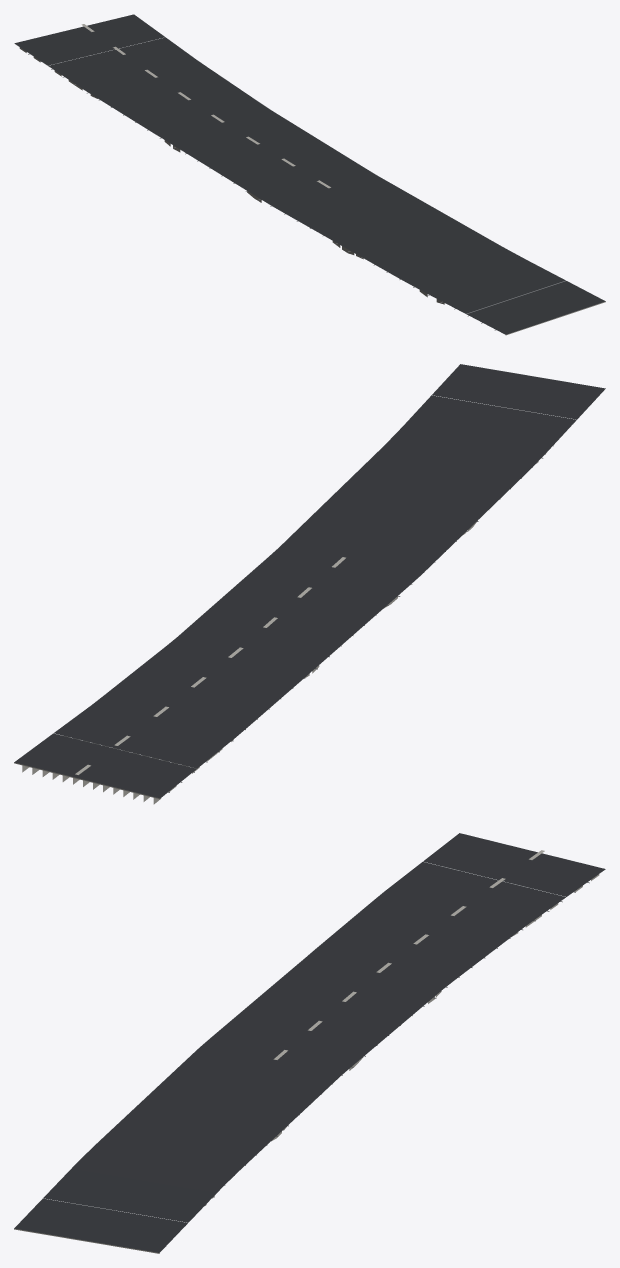
Rendered from br_r6_quesnell_1_lod2.gltf.
3 views of the same model, one above another, from view 1: azimuth 30°, elevation 25°; view 2: azimuth 150°, elevation 25°; view 3: azimuth 330°, elevation 25° (orthographic). The views are drawn at different scales.
Parts seen in each view (by area): view 1: br_r6_quesnell_1_lod2; view 2: br_r6_quesnell_1_lod2; view 3: br_r6_quesnell_1_lod2.
Boxes of the visible parts, x1,y1,x2,y2 form: br_r6_quesnell_1_lod2: [14, 14, 605, 335]; br_r6_quesnell_1_lod2: [14, 364, 605, 804]; br_r6_quesnell_1_lod2: [14, 833, 605, 1253].
Bounding box in the file's own units: 74.57 × 5.12 × 318.
